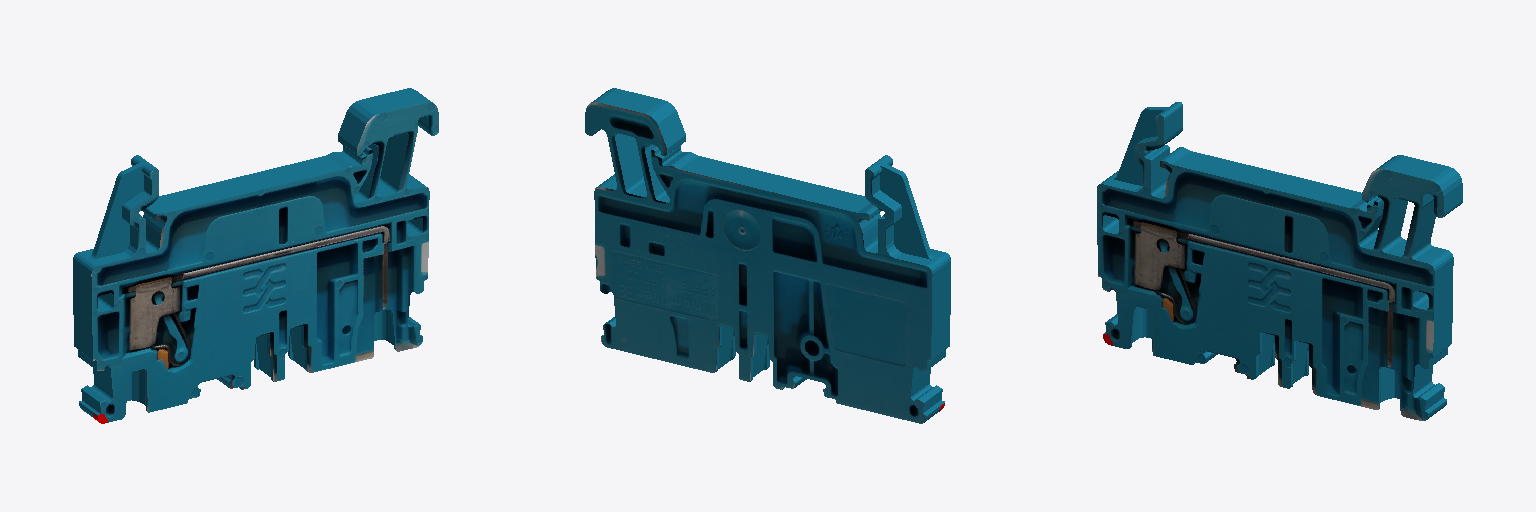
The picture shows the model from 3 angles: view 1: azimuth 30°, elevation 25°; view 2: azimuth 150°, elevation 25°; view 3: azimuth 330°, elevation 25°; orthographic projection.
Visible parts, largest first — view 1: [number redacted]_[number redacted].002; view 2: [number redacted]_[number redacted].002; view 3: [number redacted]_[number redacted].002.
Part boxes in pixels (x1,y1,x2,y2): [number redacted]_[number redacted].002: (73,88,438,423); [number redacted]_[number redacted].002: (585,88,950,423); [number redacted]_[number redacted].002: (1097,102,1462,420).
Size of the model in its own units: 0.0542 by 0.0362 by 0.0051.
1 materials, 1 textured.